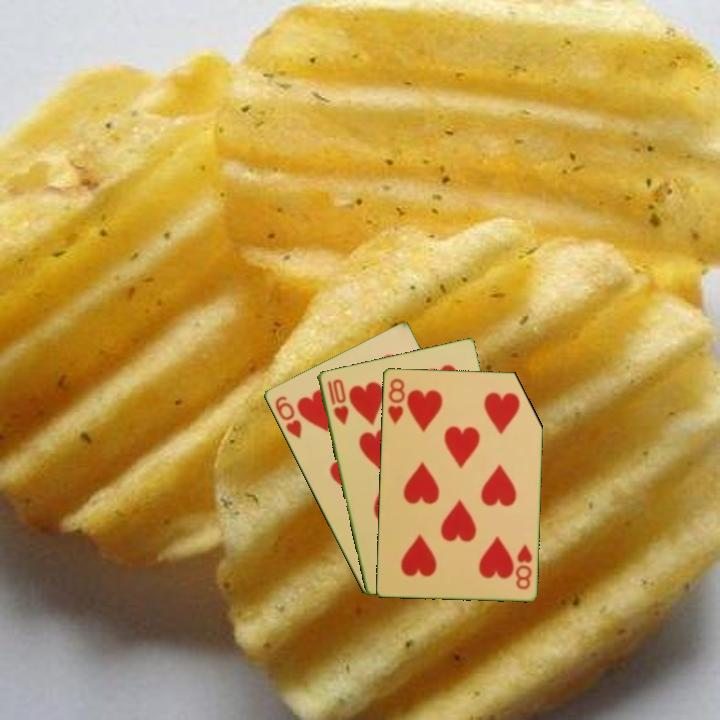10h: (323, 375, 351, 428)
6h: (271, 392, 304, 442)
8h: (511, 540, 535, 592), (384, 375, 407, 427)
